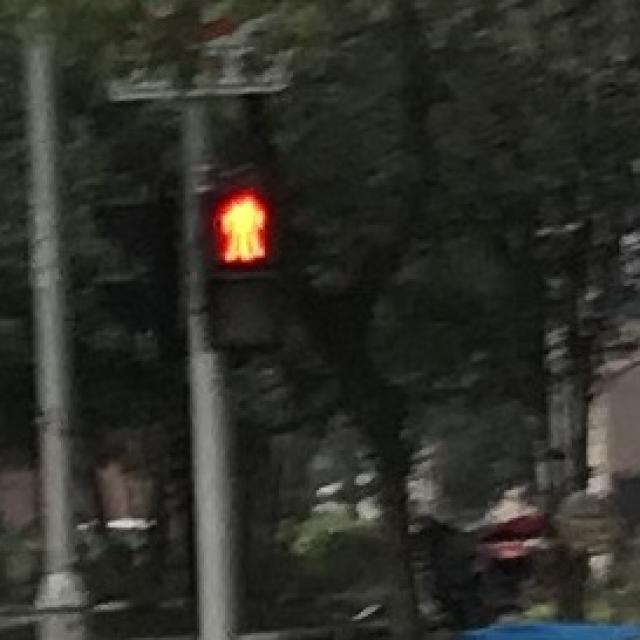red-crossing: (199, 188, 277, 262)
